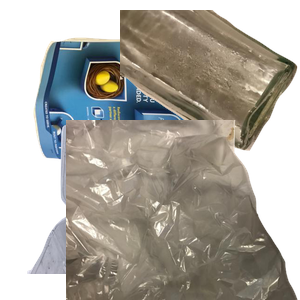glass: (120, 10, 300, 153)
paper: (31, 34, 252, 205)
plastic: (25, 120, 245, 300)
trash: (66, 120, 300, 300)
